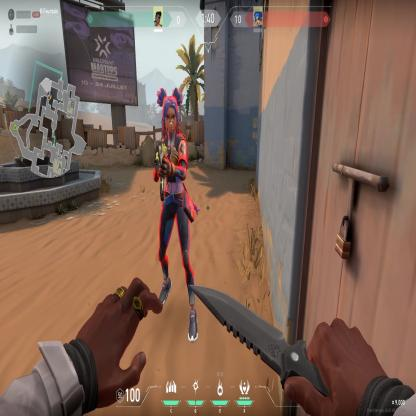enemy: (149, 85, 200, 351)
